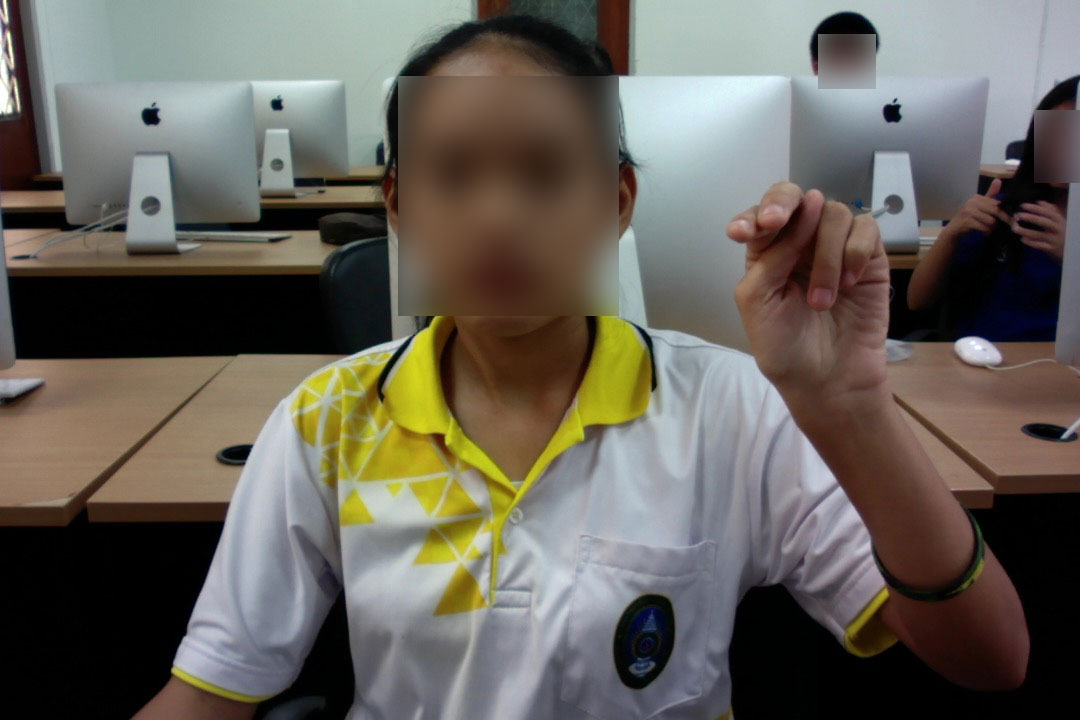nor: (712, 180, 907, 430)
